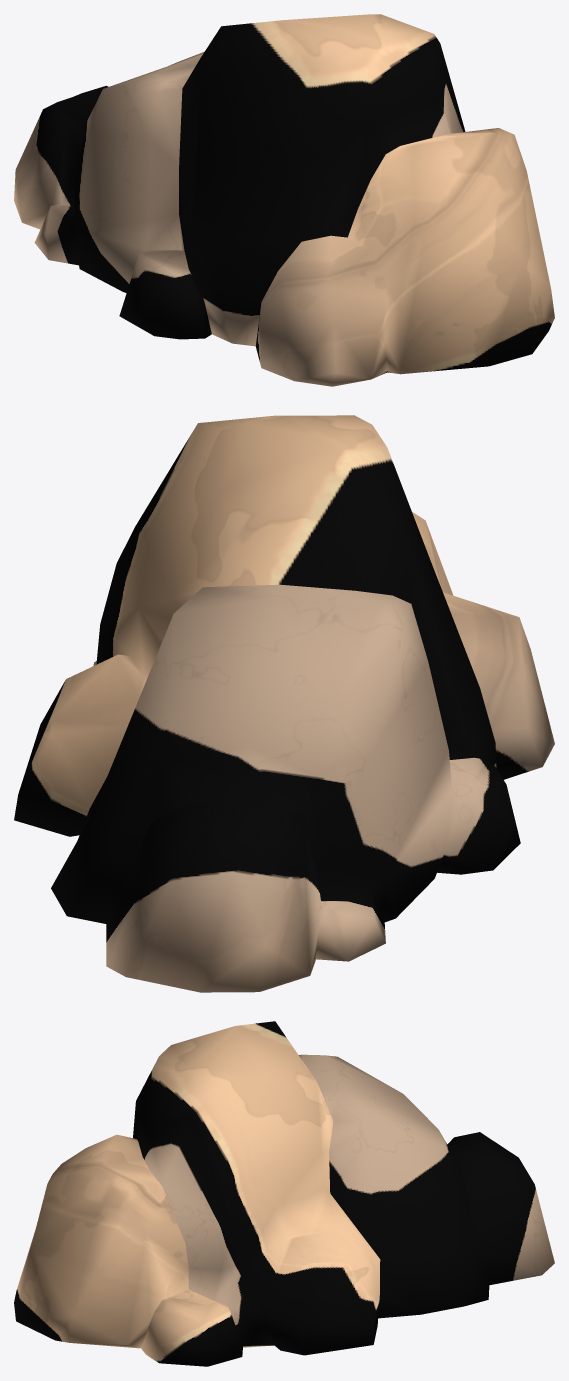
Rendered from Rock_1.fbx.
3 renders of one model, top to bottom at view 1: azimuth 30°, elevation 25°; view 2: azimuth 150°, elevation 25°; view 3: azimuth 270°, elevation 25°, orthographic. The views are drawn at different scales.
Parts seen in each view (by area): view 1: Low; view 2: Low; view 3: Low.
Part boxes in pixels (box(x1,y1,x2,y2)): Low: box(14, 14, 554, 386); Low: box(14, 415, 554, 992); Low: box(14, 1021, 554, 1366).
Size of the model in its own units: 194 by 145 by 287.
